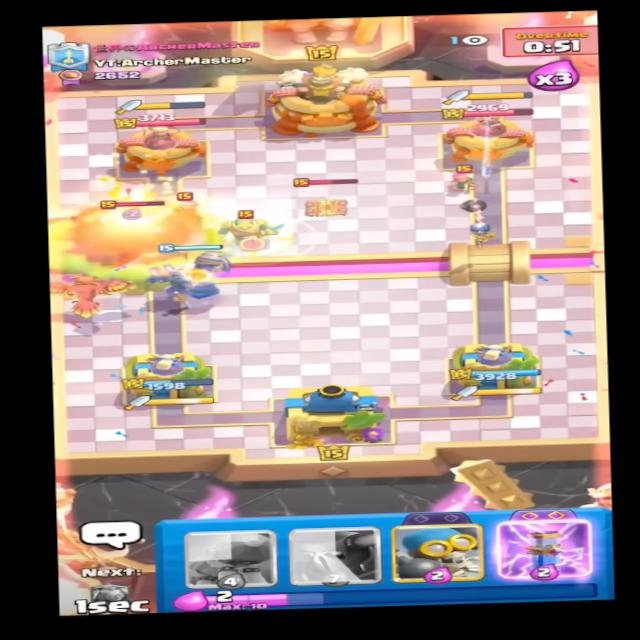archer: (440, 168, 483, 191), (171, 195, 209, 220)
knight: (214, 211, 283, 254)
tesla-closed: (292, 178, 363, 221)
